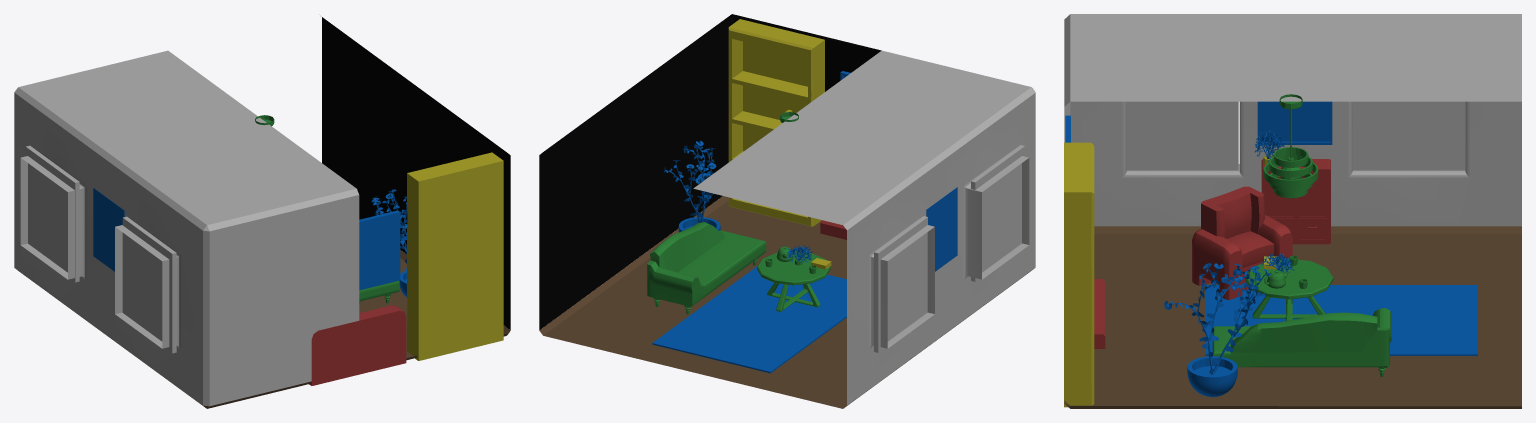
The model's file is ABSULUTELATESTIME.fbx.
3 renders of one model, left to right at view 1: azimuth 30°, elevation 25°; view 2: azimuth 150°, elevation 25°; view 3: azimuth 270°, elevation 25°, orthographic. The views are drawn at different scales.
Visible parts, largest first — view 1: pasted__RoomWalls, RoomWalls, Bookshelf1, Furnace, pCube24, pCube23, Painting, Painting1, Ground, Bank; view 2: pasted__RoomWalls, RoomWalls, Ground, Carpet, Bookshelf1, Bank, pCube23, pCube24, Painting1, Table, daisyLarge1Leaf, TableLeg (+1 smaller); view 3: pasted__RoomWalls, Ground, Carpet, Bank, Bookshelf1, pCube23, pCube24, ActualCupboard, Painting1, pCube13, pCube10, Table (+12 smaller).
Part boxes in pixels (bbox=[...]): pasted__RoomWalls: bbox=[14, 50, 359, 406]; RoomWalls: bbox=[322, 17, 510, 329]; Bookshelf1: bbox=[407, 152, 503, 360]; Furnace: bbox=[309, 305, 406, 385]; pCube24: bbox=[122, 216, 176, 353]; pCube23: bbox=[25, 145, 79, 282]; Painting: bbox=[359, 210, 400, 290]; Painting1: bbox=[93, 188, 124, 271]; Ground: bbox=[16, 250, 510, 408]; Bank: bbox=[359, 281, 399, 301]; pasted__RoomWalls: bbox=[693, 50, 1035, 405]; RoomWalls: bbox=[539, 14, 881, 329]; Ground: bbox=[539, 196, 1034, 408]; Carpet: bbox=[652, 266, 846, 373]; Bookshelf1: bbox=[728, 19, 824, 226]; Bank: bbox=[647, 222, 766, 306]; pCube23: bbox=[874, 216, 927, 352]; pCube24: bbox=[971, 145, 1024, 281]; Painting1: bbox=[926, 187, 957, 271]; Table: bbox=[757, 251, 830, 285]; daisyLarge1Leaf: bbox=[666, 142, 714, 224]; TableLeg: bbox=[767, 283, 820, 311]; pasted__RoomWalls: bbox=[1064, 14, 1521, 226]; Ground: bbox=[1064, 226, 1521, 408]; Carpet: bbox=[1205, 285, 1477, 355]; Bank: bbox=[1212, 308, 1391, 367]; Bookshelf1: bbox=[1064, 142, 1094, 407]; pCube23: bbox=[1352, 101, 1465, 170]; pCube24: bbox=[1126, 101, 1238, 170]; ActualCupboard: bbox=[1261, 159, 1330, 244]; Painting1: bbox=[1257, 101, 1332, 144]; pCube13: bbox=[1201, 186, 1264, 290]; pCube10: bbox=[1192, 229, 1242, 299]; Table: bbox=[1245, 258, 1333, 299].
Size of the model in its own units: 2.57 by 1.41 by 2.62.
